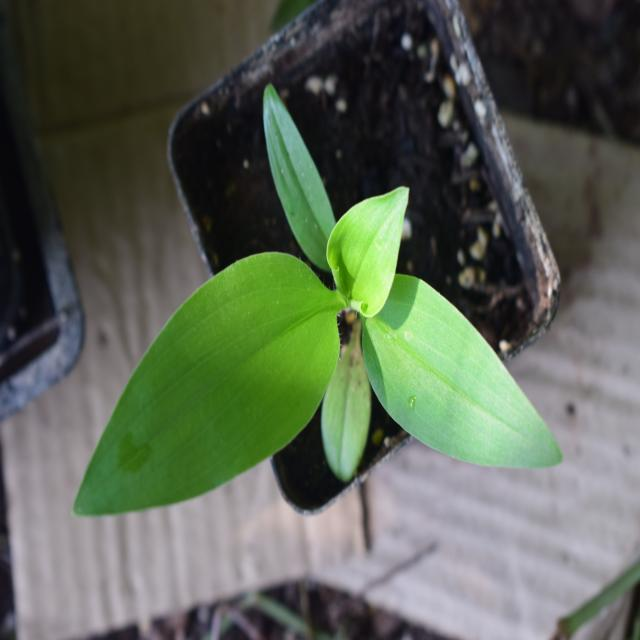Common Dayflower: (76, 173, 560, 536)
